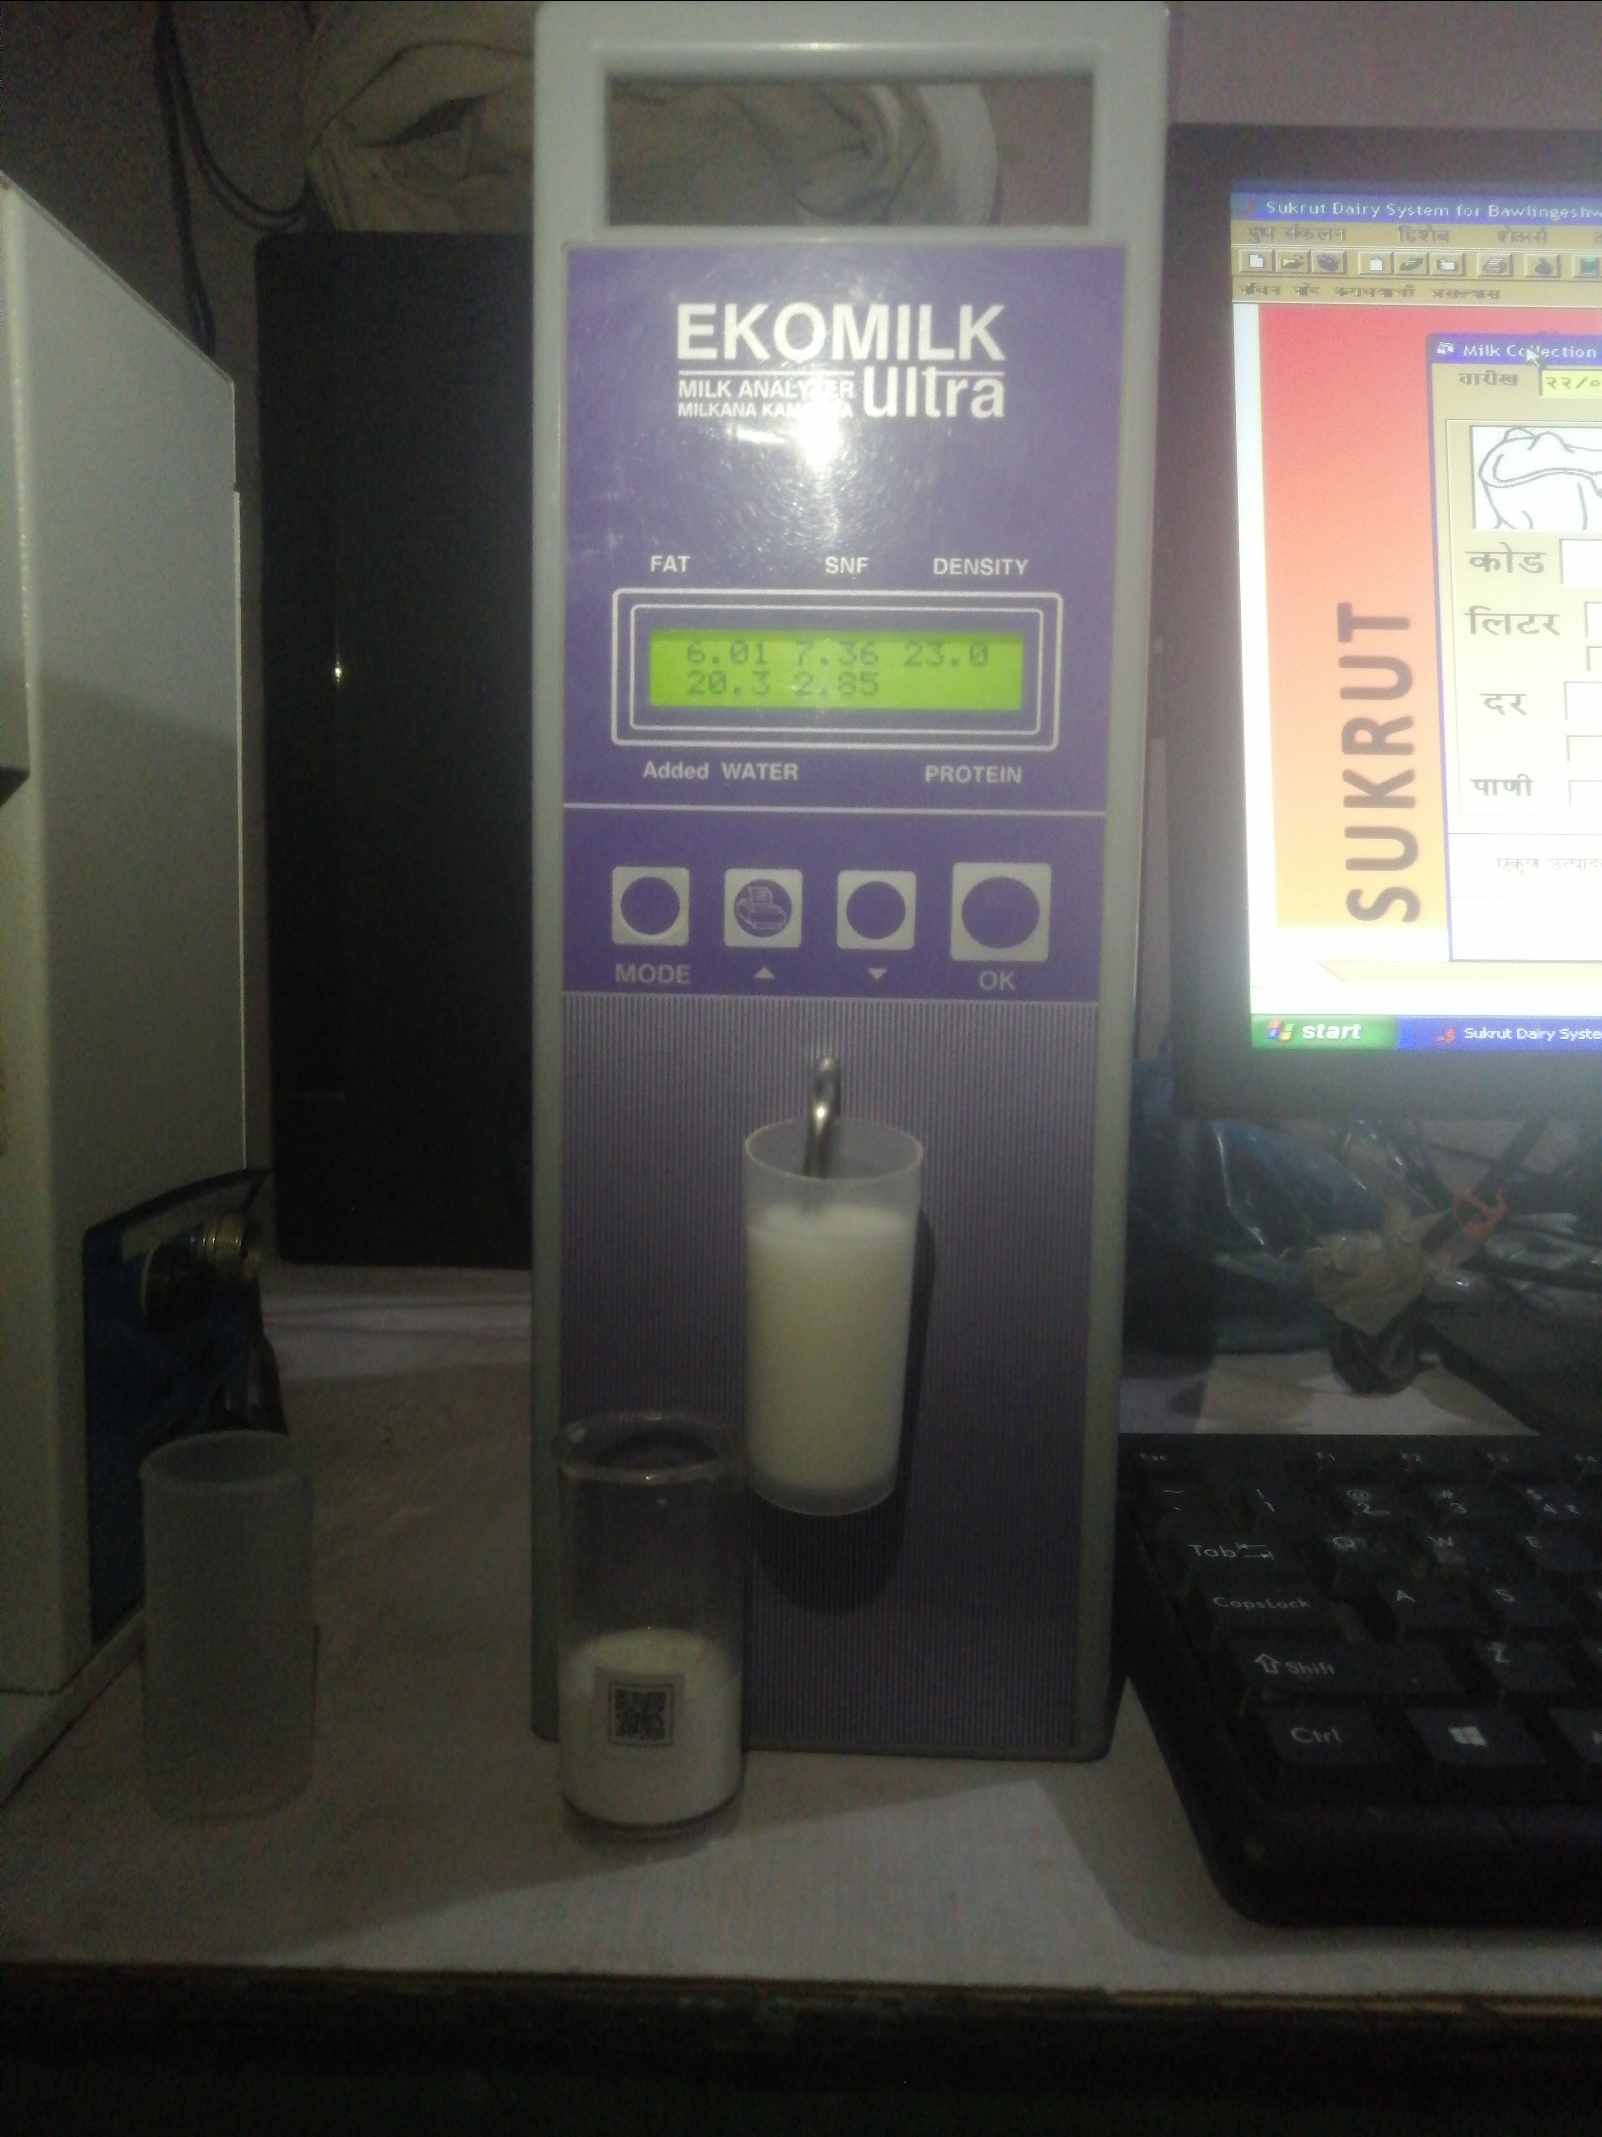lcd: (633, 618, 1048, 729)
qr: (569, 1662, 698, 1765)
